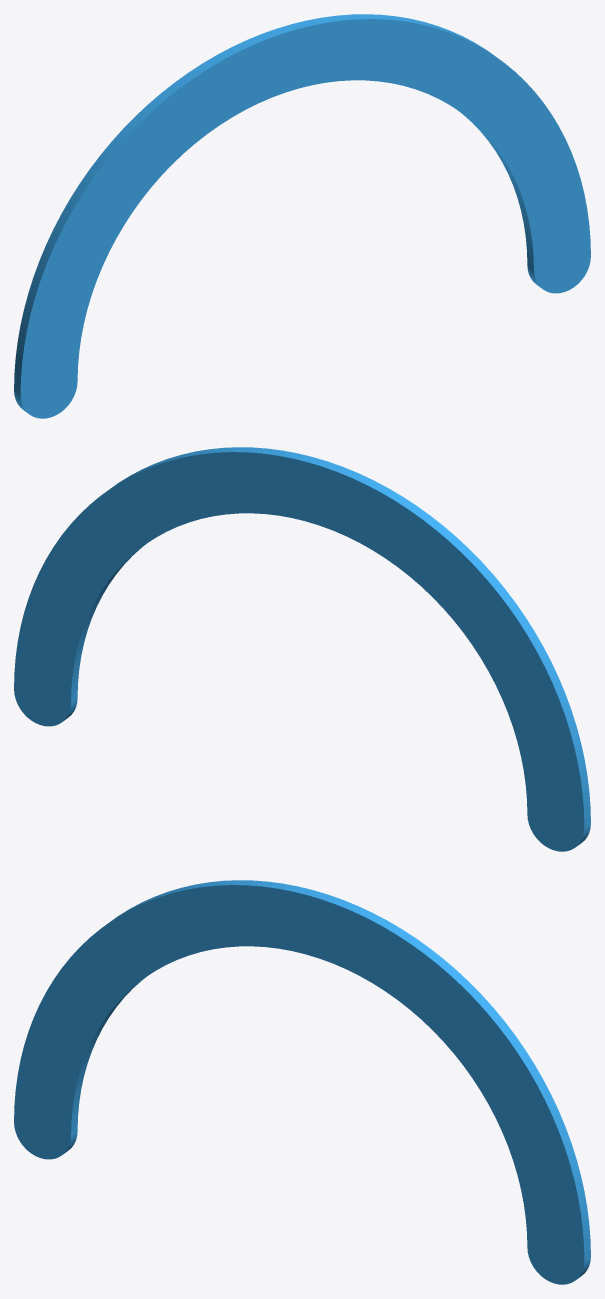
File: pump-arrow.glb
3 renders of one model, top to bottom at view 1: azimuth 30°, elevation 25°; view 2: azimuth 150°, elevation 25°; view 3: azimuth 330°, elevation 25°, orthographic.
Visible parts, largest first — view 1: Arrow; view 2: Arrow; view 3: Arrow.
Boxes of the visible parts, x1,y1,x2,y2 form: Arrow: (14,14,590,418); Arrow: (14,447,590,851); Arrow: (14,880,590,1284).
Bounding box in the file's own units: 50 × 27.48 × 1.
